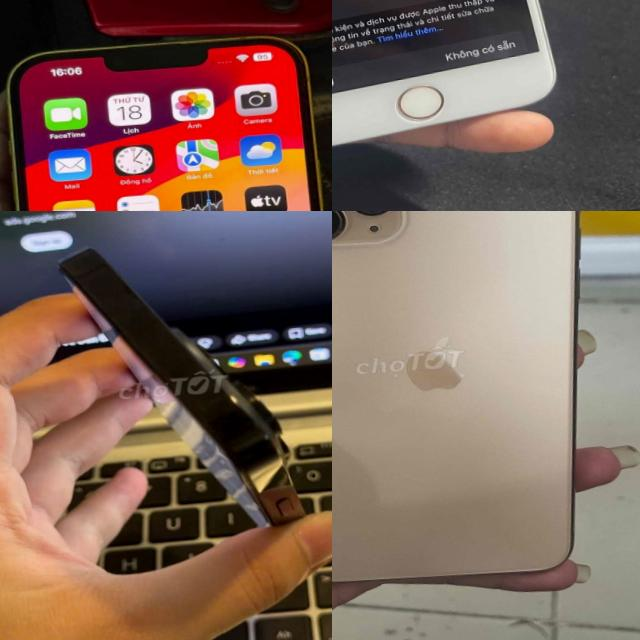gen_11: (332, 211, 579, 581)
gen_14: (63, 220, 332, 564), (0, 21, 332, 211)
gen_7_8: (332, 0, 568, 157)
